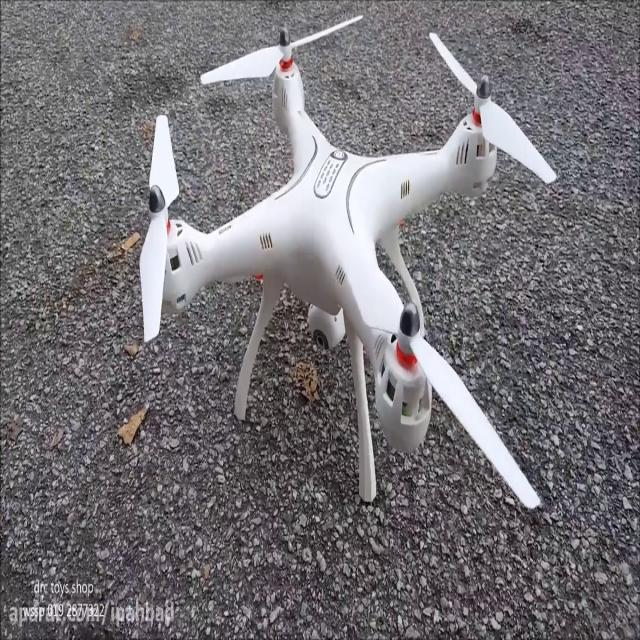drone: (136, 10, 560, 520)
